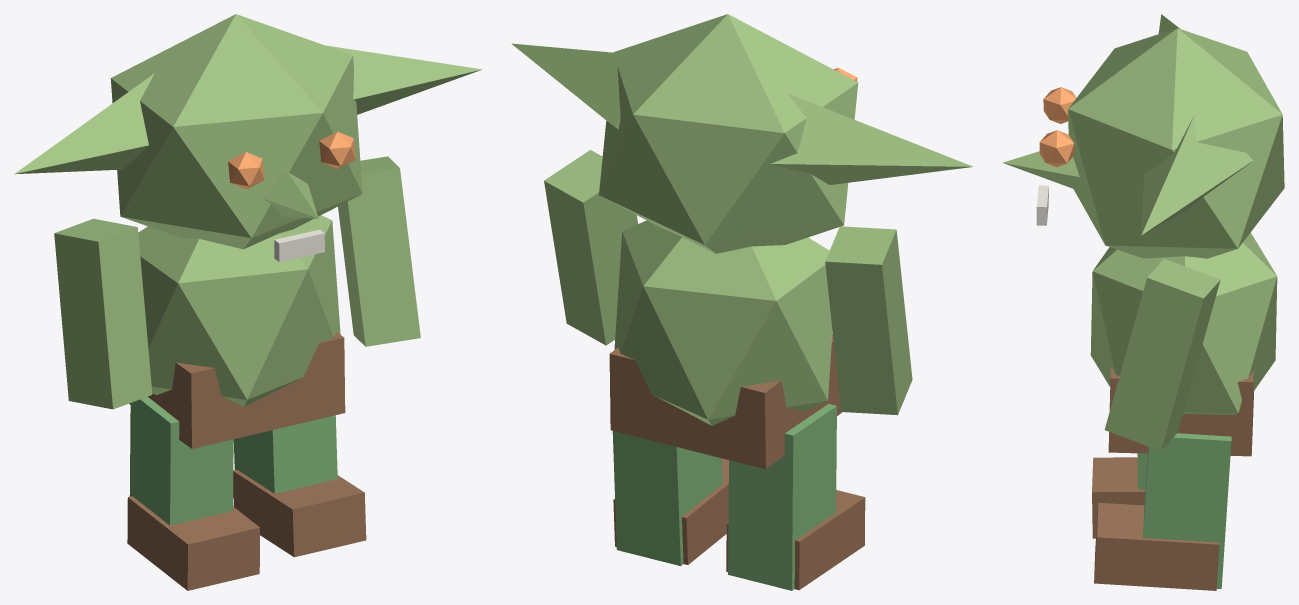
Rendered from npcpose_goblin_idle_09.glb.
3 views of the same model, side by side, from view 1: azimuth 30°, elevation 25°; view 2: azimuth 150°, elevation 25°; view 3: azimuth 270°, elevation 25° (orthographic). The views are drawn at different scales.
Parts seen in each view (by area): view 1: npcpose; view 2: npcpose; view 3: npcpose.
Part boxes in pixels (box(x1,y1,x2,y2)): npcpose: box(14, 14, 482, 590); npcpose: box(511, 14, 973, 590); npcpose: box(1002, 14, 1284, 590).
Bounding box in the file's own units: 1.03 × 1.12 × 0.5519.
